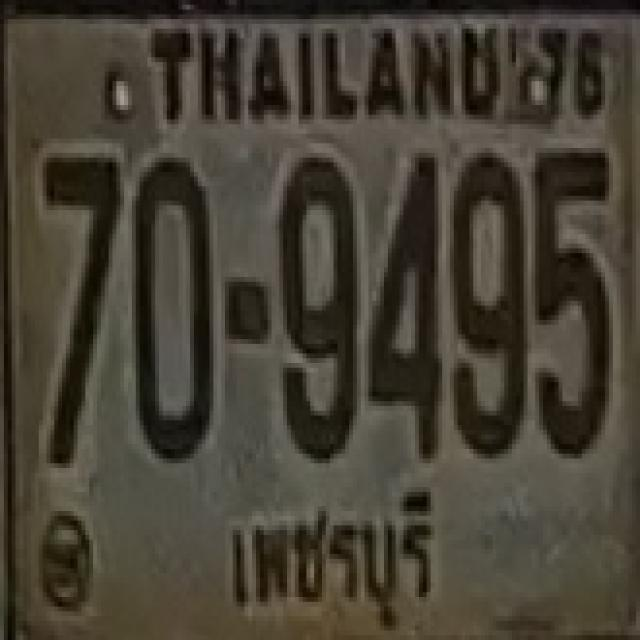0: (132, 156, 209, 452), (277, 153, 355, 353)
4: (365, 151, 438, 456)
5: (531, 146, 605, 327)
7: (45, 155, 118, 337)
9: (277, 158, 355, 458), (277, 186, 355, 458), (450, 176, 524, 454), (450, 215, 524, 454)
PBI: (209, 474, 452, 640)
